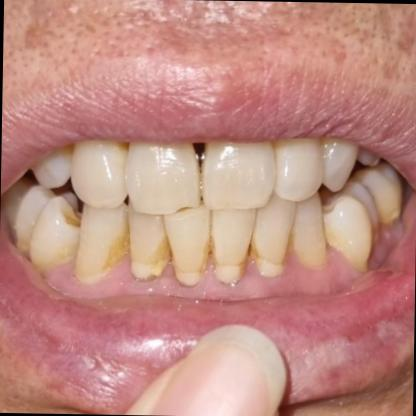Gap: (141, 139, 263, 203)
